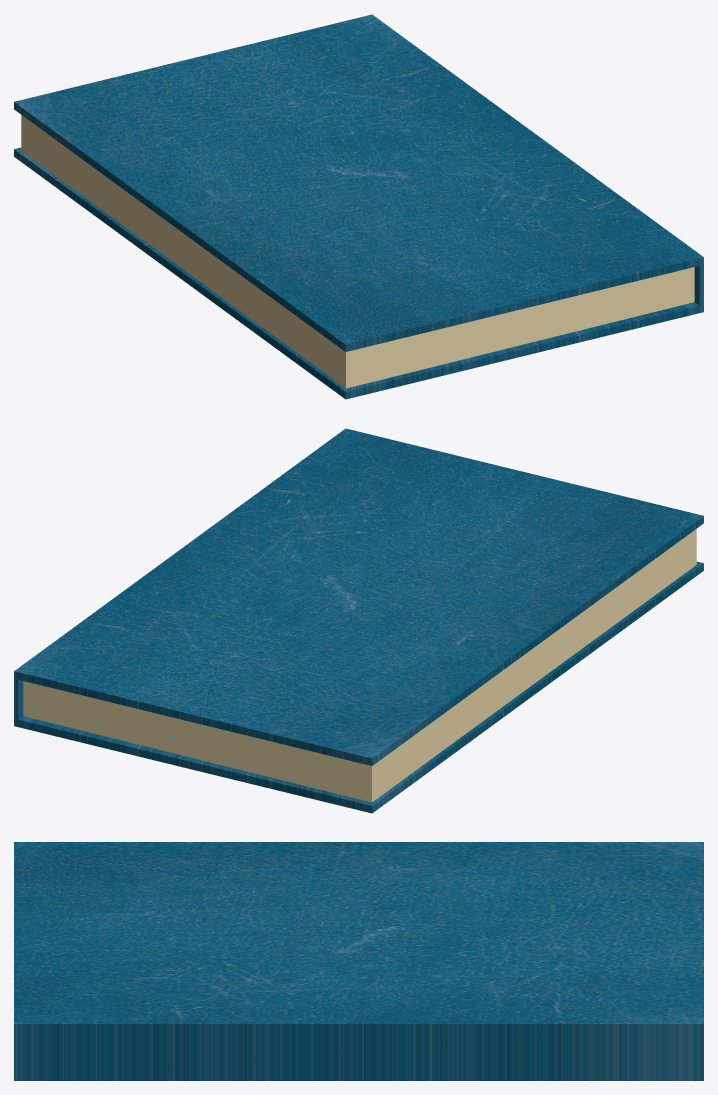
The model's file is test_book_pile1.fbx.
3 renders of one model, top to bottom at view 1: azimuth 30°, elevation 25°; view 2: azimuth 150°, elevation 25°; view 3: azimuth 270°, elevation 25°, orthographic. The views are drawn at different scales.
Visible parts, largest first — view 1: Plane.003; view 2: Plane.003; view 3: Plane.003.
Part boxes in pixels (left/top/right/bottom): Plane.003: left=14, top=14, right=703, bottom=399; Plane.003: left=14, top=428, right=703, bottom=813; Plane.003: left=14, top=842, right=703, bottom=1080.
Size of the model in its own units: 125 by 18.25 by 200.
2 materials, 1 textured.
